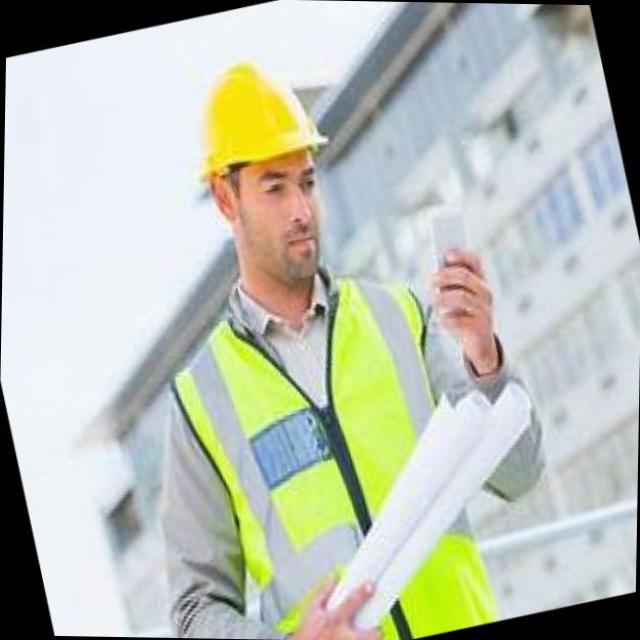not-gloved: (416, 228, 523, 375), (261, 561, 386, 640)
